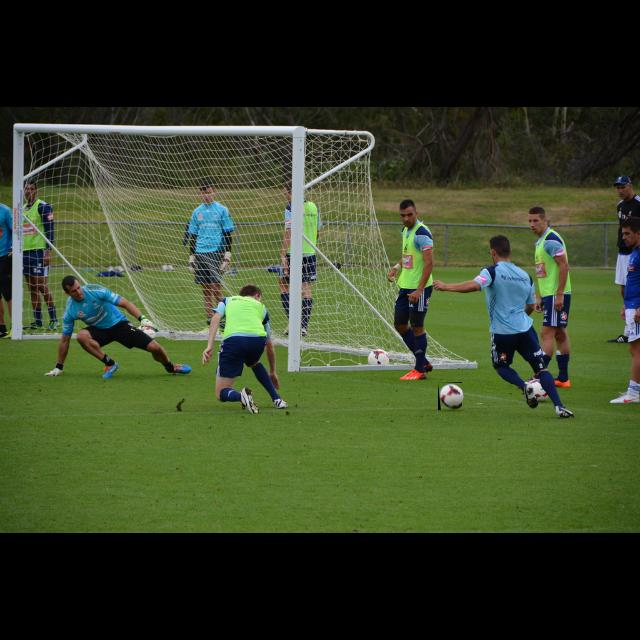Football: (438, 382, 462, 410)
